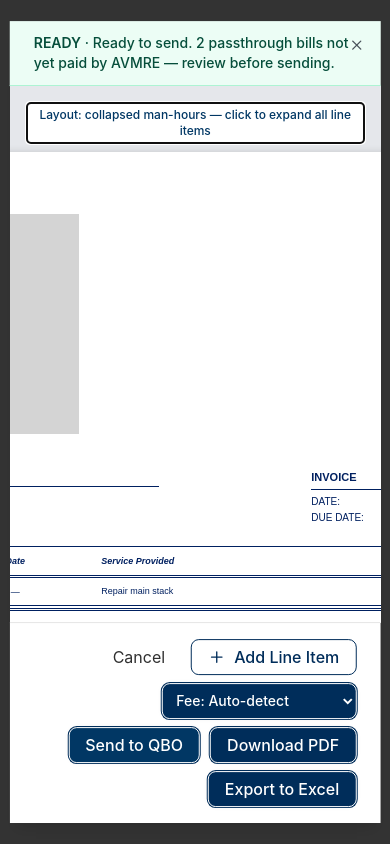
Scenario: InvoicePreviewModal — pre-send review › itemizes each unpaid line and totals them
Click the button "Send to QBO" at (134, 745), box [68, 727, 200, 763]
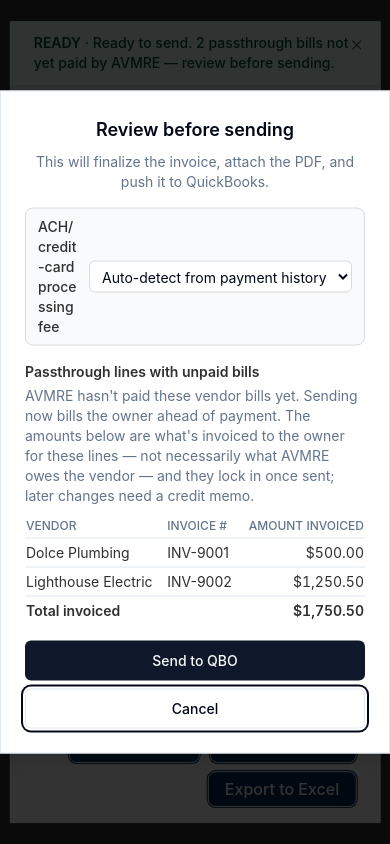
Now the text "Dolce Plumbing" is shown, box [25, 538, 166, 567]
Now the text "INV-9001" is shown, box [166, 538, 243, 567]
Now the text "$500.00" is shown, box [243, 538, 365, 567]
